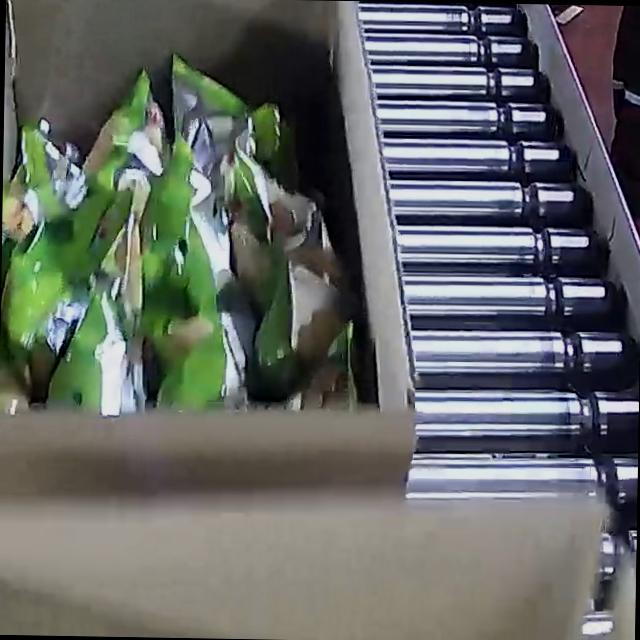yogurt: (0, 46, 365, 419)
